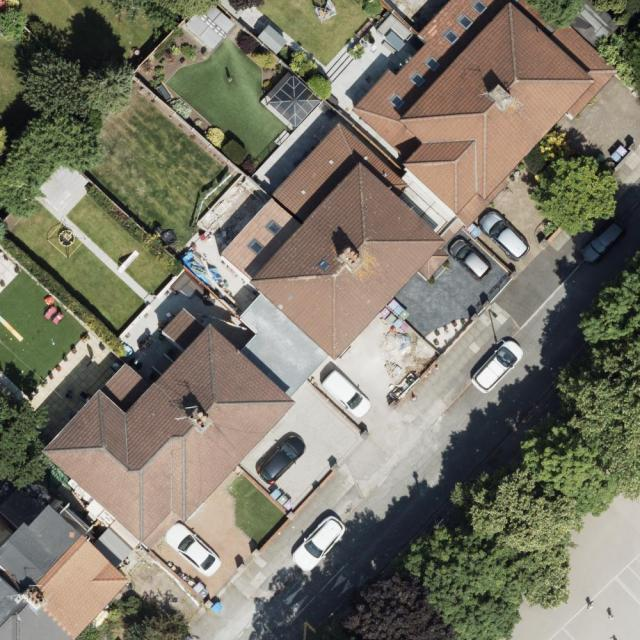roof: (0, 0, 620, 640)
skylight: (387, 91, 407, 110), (247, 236, 265, 255), (265, 218, 284, 236), (425, 57, 443, 74), (441, 28, 460, 44), (408, 72, 426, 87), (459, 14, 473, 29), (319, 257, 332, 272), (473, 0, 488, 13)
